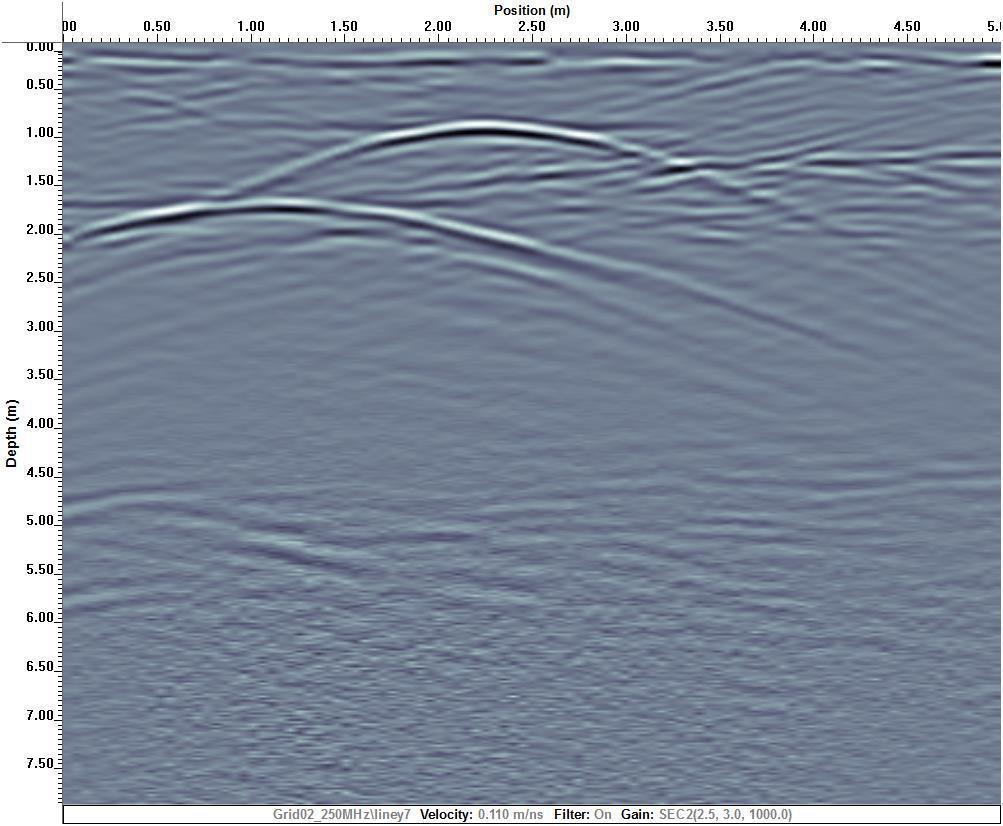hyperbola: (63, 184, 576, 288), (260, 101, 741, 190)
